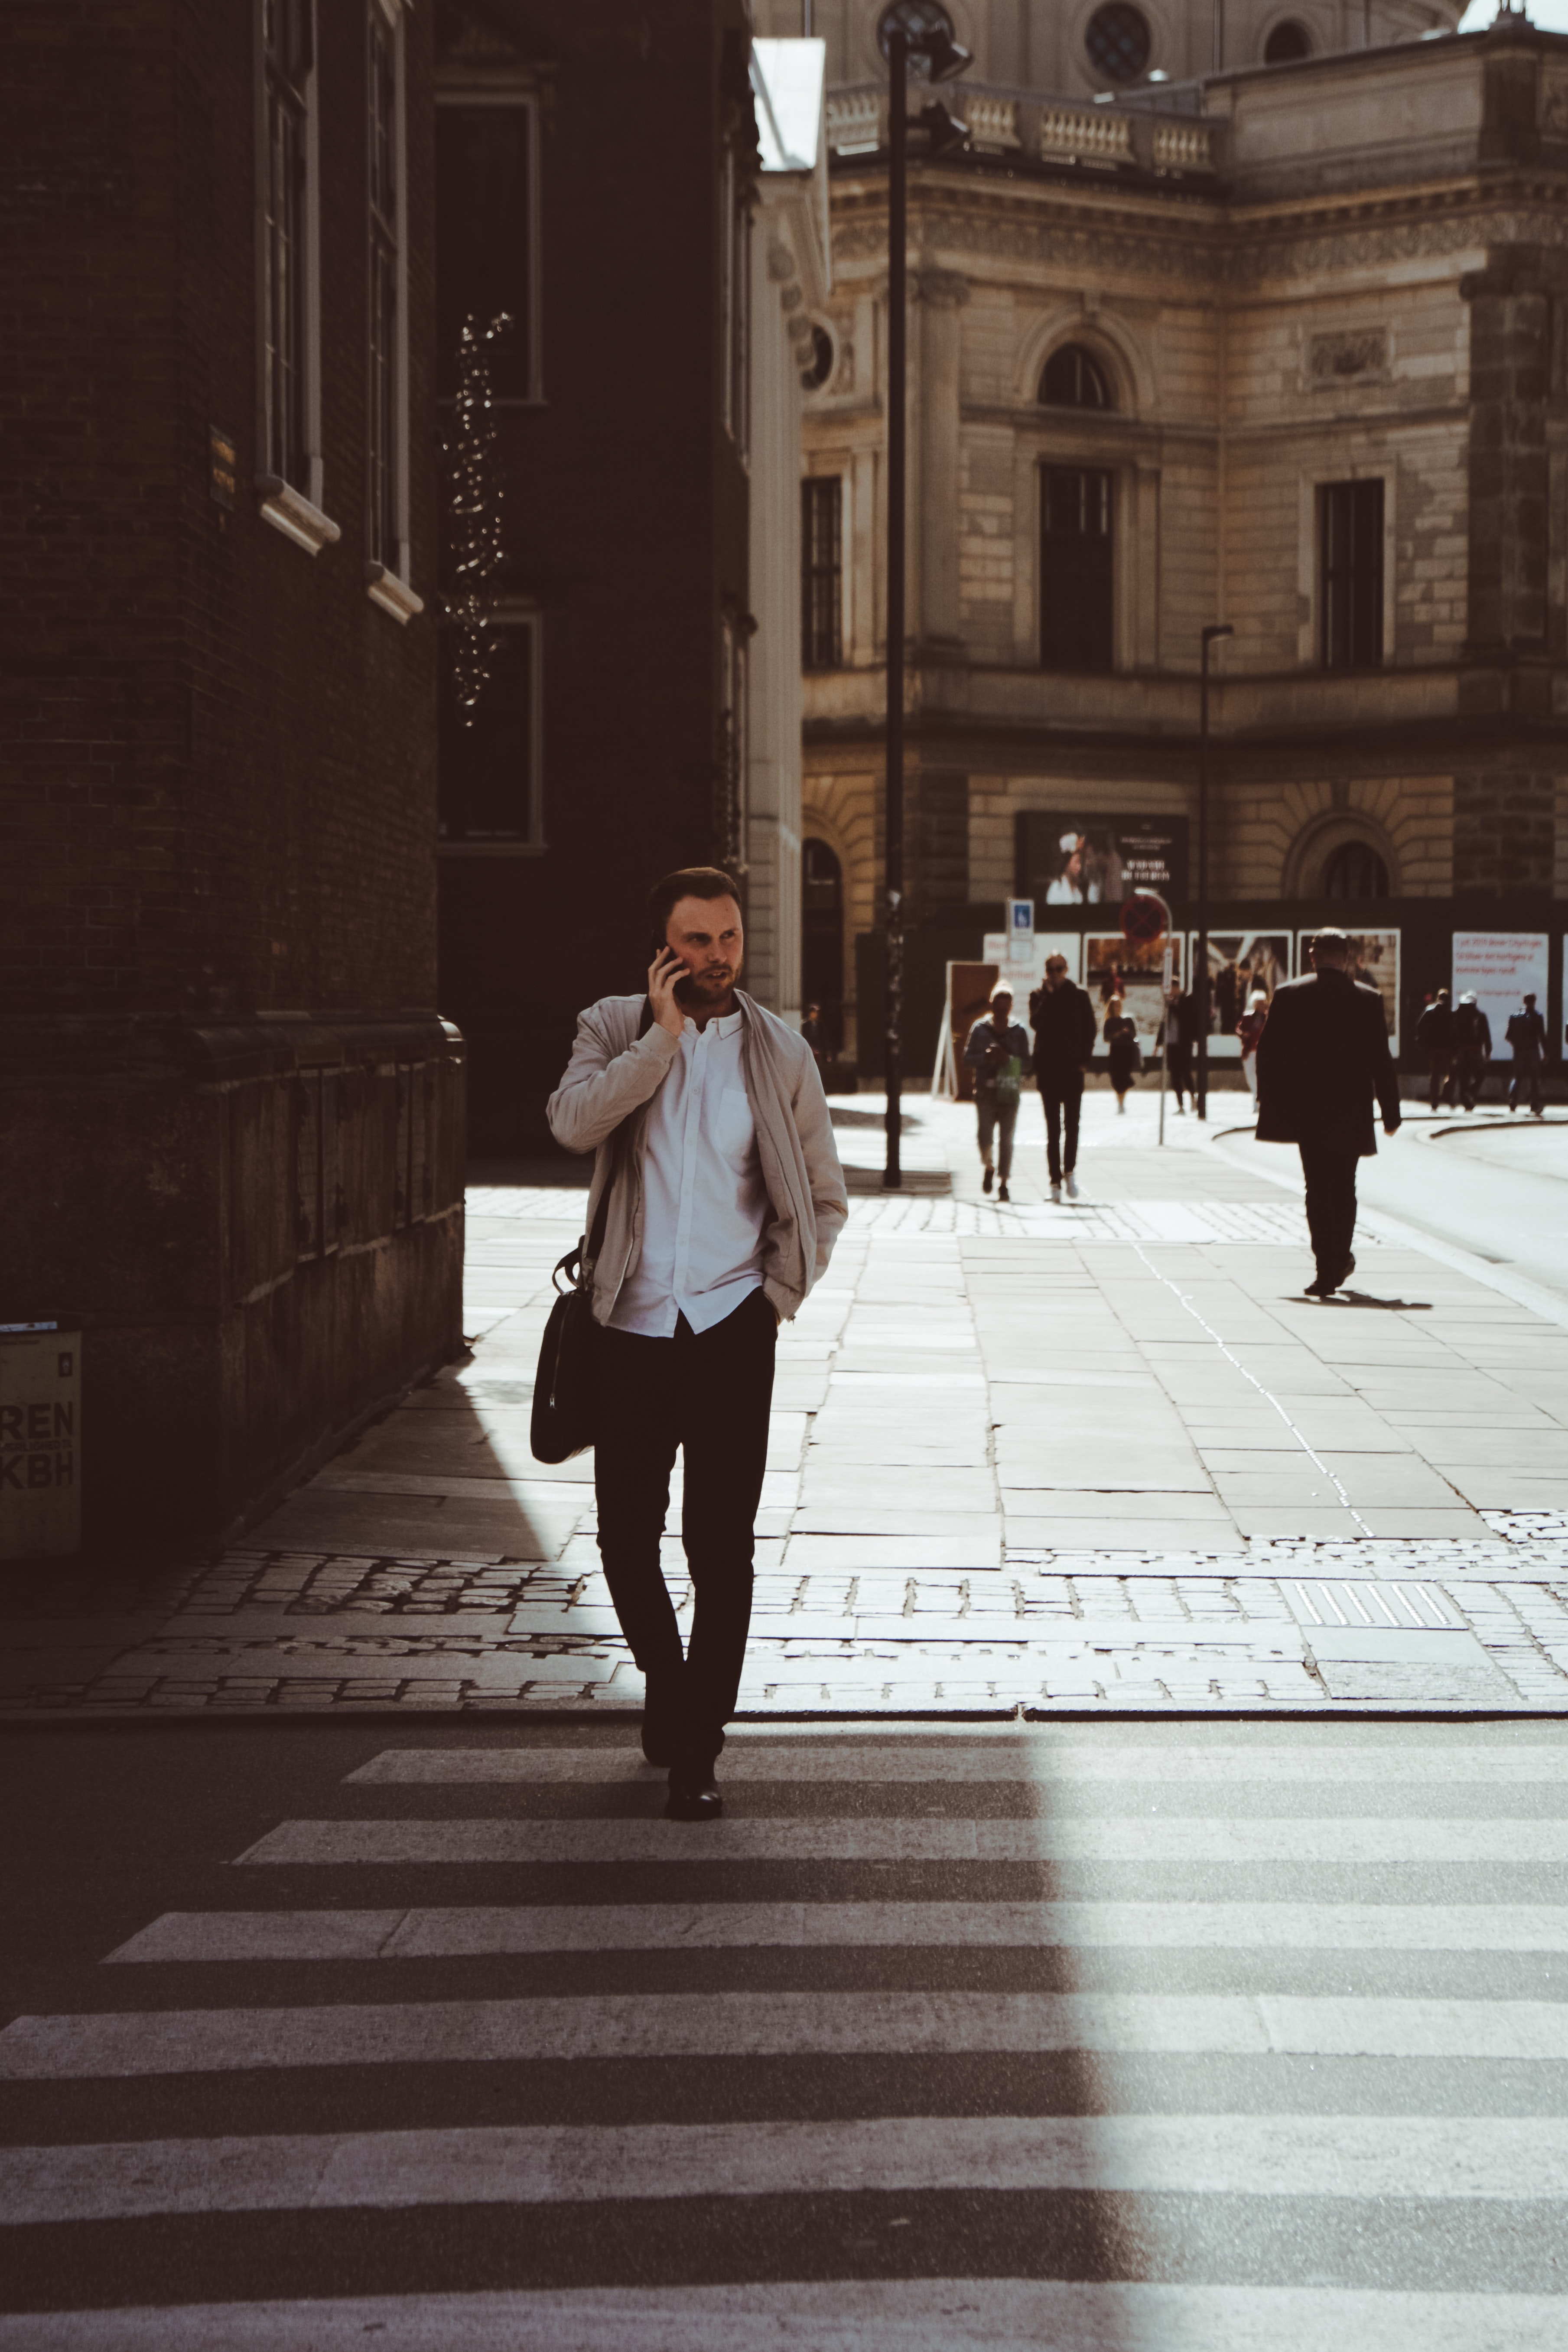person: (553, 862, 823, 1831), (1254, 921, 1373, 1291), (1034, 955, 1100, 1198), (970, 980, 1028, 1198)
